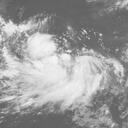cyclone: (25, 31, 104, 108)
